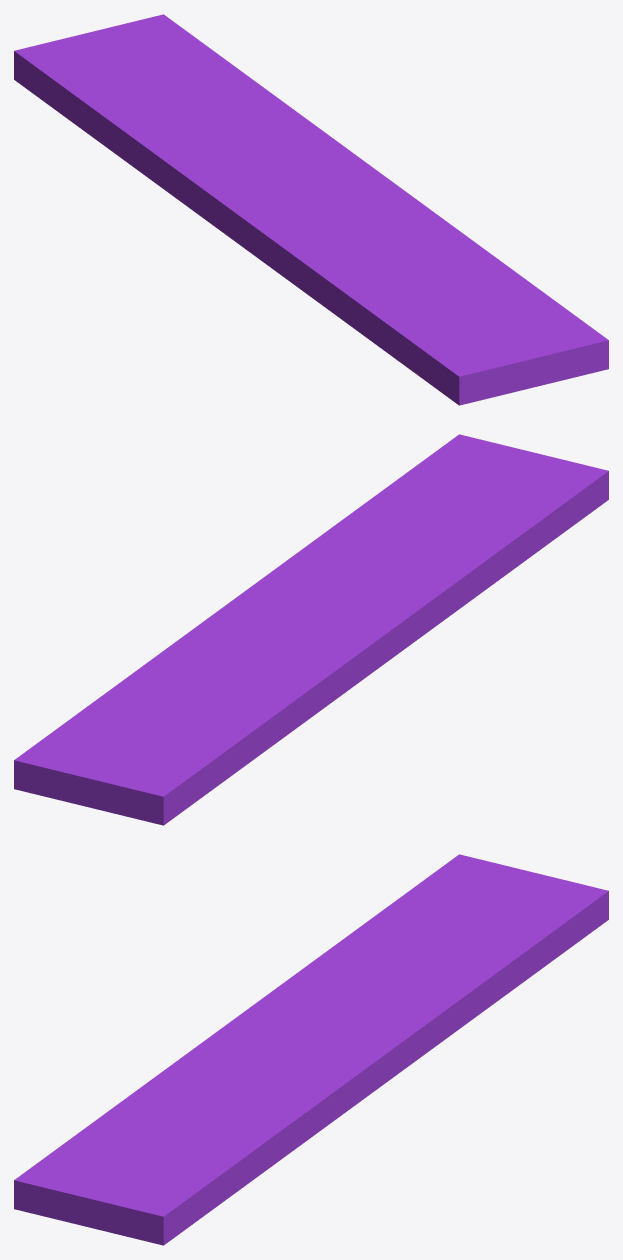
File: StairsStep_132_chunks.fbx
The picture shows the model from 3 angles, top to bottom: view 1: azimuth 30°, elevation 25°; view 2: azimuth 150°, elevation 25°; view 3: azimuth 330°, elevation 25°; orthographic projection.
Parts seen in each view (by area): view 1: StairsStep_132_2, StairsStep_132_3, StairsStep_132_0; view 2: StairsStep_132_3, StairsStep_132_2, StairsStep_132_0; view 3: StairsStep_132_2, StairsStep_132_3, StairsStep_132_0, StairsStep_132_1.
Boxes of the visible parts, x1,y1,x2,y2 form: StairsStep_132_2: (275,184,608,405); StairsStep_132_3: (14,14,395,195); StairsStep_132_0: (123,141,301,279); StairsStep_132_3: (14,590,315,825); StairsStep_132_2: (247,434,608,624); StairsStep_132_0: (273,606,437,745); StairsStep_132_2: (14,1032,376,1245); StairsStep_132_3: (307,854,608,1076); StairsStep_132_0: (199,945,335,1044); StairsStep_132_1: (327,1061,393,1125).
Size of the model in its own units: 157 by 28.98 by 810.
